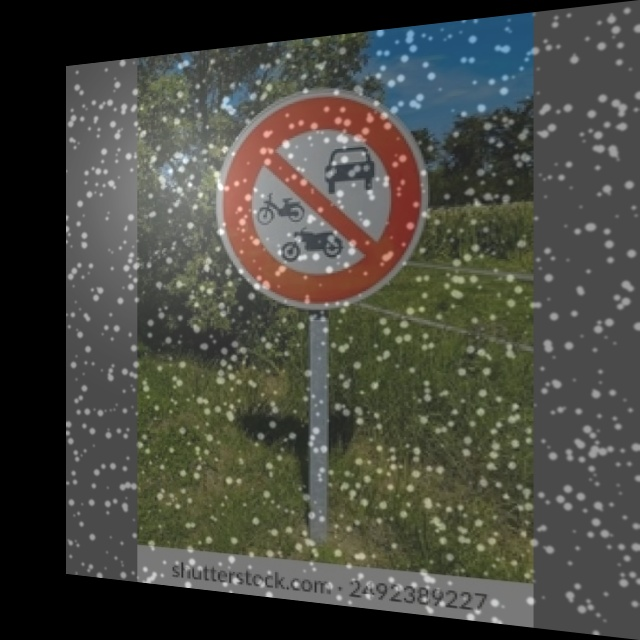All_Motor_Vehicles_Prohibited: (215, 79, 426, 311)
